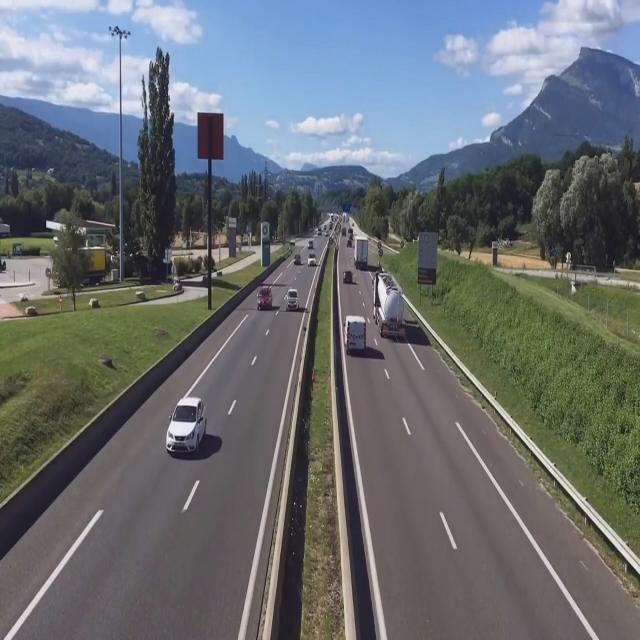bus: (341, 314, 367, 356)
car: (168, 398, 210, 458), (259, 284, 276, 310), (286, 289, 299, 312), (343, 268, 353, 282)
truck: (371, 270, 406, 340), (353, 235, 371, 270)
